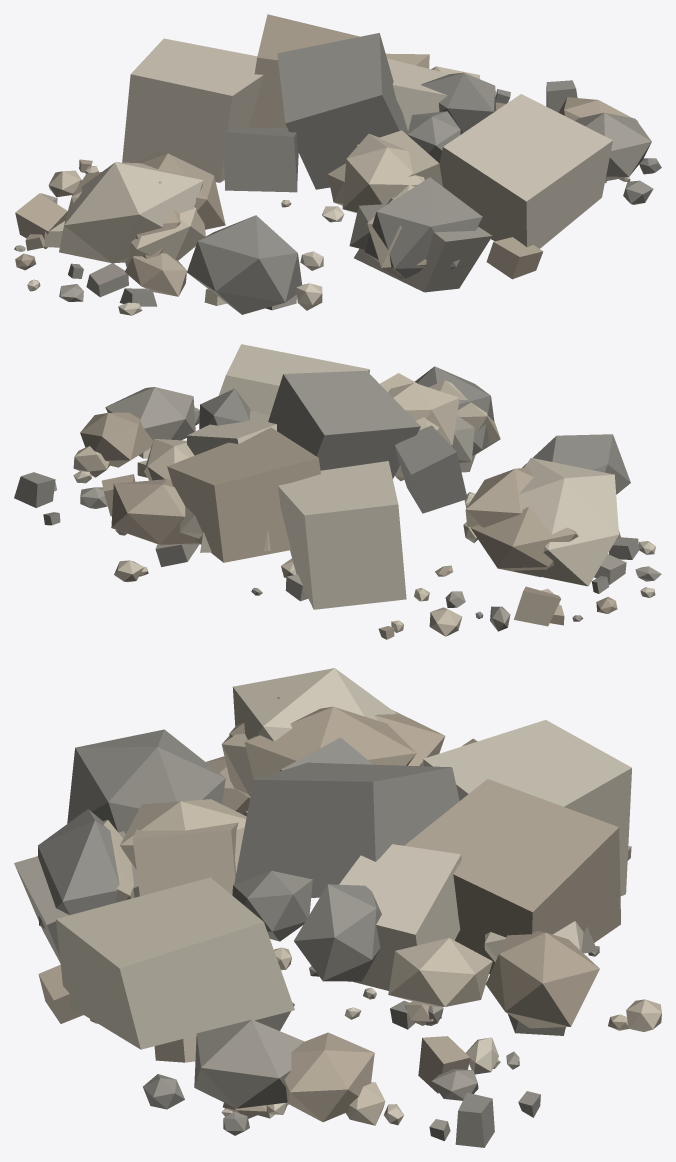
File: preview.glb
3 renders of one model, top to bottom at view 1: azimuth 30°, elevation 25°; view 2: azimuth 150°, elevation 25°; view 3: azimuth 270°, elevation 25°, orthographic. The views are drawn at different scales.
Visible parts, largest first — view 1: Pile03 rock000, Pile03 rock012, Pile03 rock021, Pile03 rock001, Pile03 rock019, Pile03 rock010, Pile03 rock006, Pile03 rock009, Pile03 rock023, Pile03 rock027, Pile03 rock025, Pile03 rock020 (+19 smaller); view 2: Pile03 rock012, Pile03 rock009, Pile03 rock021, Pile03 rock001, Pile03 rock006, Pile03 rock002, Pile03 rock000, Pile03 rock013, Pile03 rock020, Pile03 rock019, Pile03 rock007, Pile03 rock011 (+18 smaller); view 3: Pile03 rock000, Pile03 rock009, Pile03 rock021, Pile03 rock012, Pile03 rock019, Pile03 rock015, Pile03 rock002, Pile03 rock020, Pile03 rock001, Pile03 rock025, Pile03 rock010, Pile03 rock011 (+21 smaller).
Part boxes in pixels (x1,y1,x2,y2): Pile03 rock000: [439, 94, 612, 248]; Pile03 rock012: [122, 38, 263, 182]; Pile03 rock021: [277, 33, 407, 189]; Pile03 rock001: [59, 162, 203, 263]; Pile03 rock019: [187, 215, 302, 314]; Pile03 rock010: [364, 177, 482, 278]; Pile03 rock006: [223, 127, 298, 192]; Pile03 rock009: [248, 14, 359, 127]; Pile03 rock023: [342, 133, 424, 213]; Pile03 rock027: [354, 197, 492, 292]; Pile03 rock025: [421, 72, 495, 133]; Pile03 rock020: [575, 112, 651, 181]; Pile03 rock012: [278, 461, 406, 609]; Pile03 rock009: [167, 427, 320, 562]; Pile03 rock021: [268, 370, 420, 478]; Pile03 rock001: [513, 458, 618, 586]; Pile03 rock006: [395, 425, 467, 513]; Pile03 rock002: [111, 479, 199, 545]; Pile03 rock000: [218, 344, 369, 414]; Pile03 rock013: [470, 506, 578, 577]; Pile03 rock020: [105, 387, 195, 440]; Pile03 rock019: [522, 434, 630, 494]; Pile03 rock007: [80, 412, 152, 467]; Pile03 rock011: [465, 467, 533, 527]; Pile03 rock000: [56, 877, 294, 1049]; Pile03 rock009: [404, 779, 620, 973]; Pile03 rock021: [232, 762, 459, 897]; Pile03 rock012: [423, 720, 631, 895]; Pile03 rock019: [67, 729, 225, 833]; Pile03 rock015: [339, 844, 461, 990]; Pile03 rock002: [486, 931, 599, 1028]; Pile03 rock020: [194, 1019, 304, 1108]; Pile03 rock001: [232, 668, 396, 741]; Pile03 rock025: [294, 884, 381, 981]; Pile03 rock010: [38, 809, 119, 928]; Pile03 rock011: [244, 706, 416, 779].
Bounding box in the file's own units: 2.03 × 0.5245 × 1.4.
